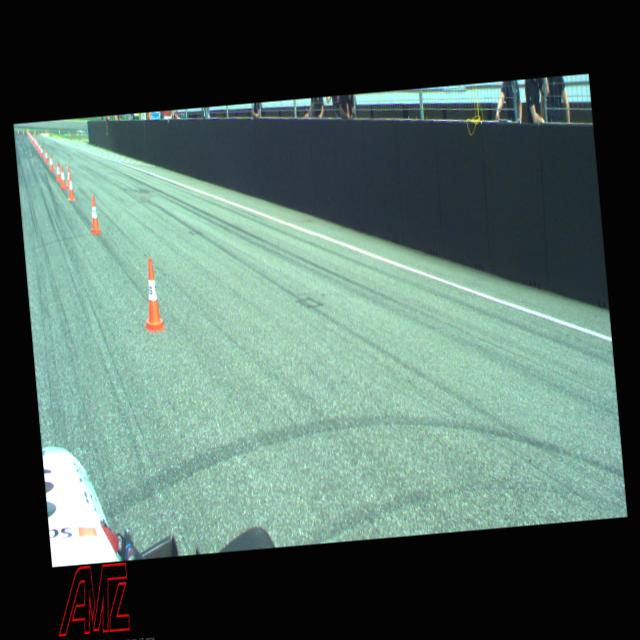orange_cone: (139, 258, 164, 334), (88, 197, 100, 234), (65, 172, 75, 202), (64, 166, 72, 194), (58, 166, 66, 190), (54, 162, 61, 182), (42, 148, 48, 162), (38, 144, 44, 158), (48, 154, 52, 170), (36, 142, 40, 154), (17, 128, 19, 134), (22, 130, 24, 134)
